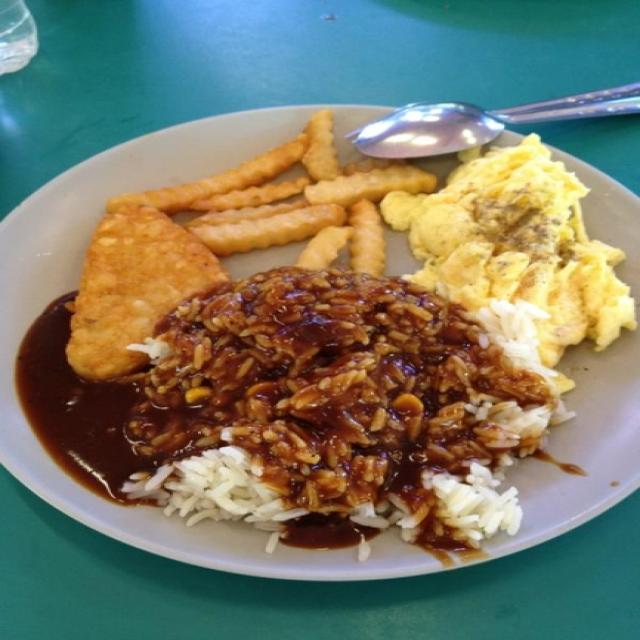鸡蛋料理: (12, 103, 632, 572)
